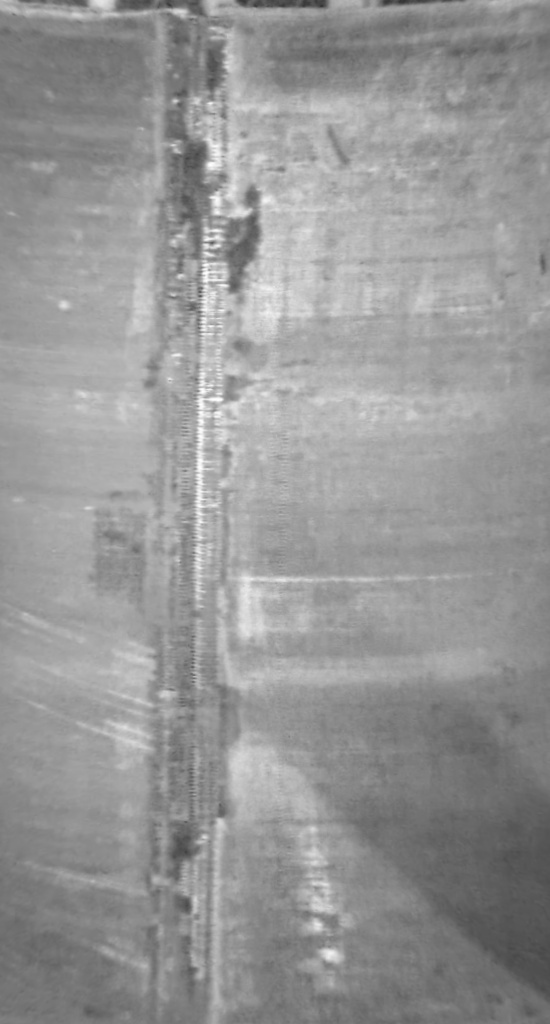splice: (135, 4, 232, 1024)
